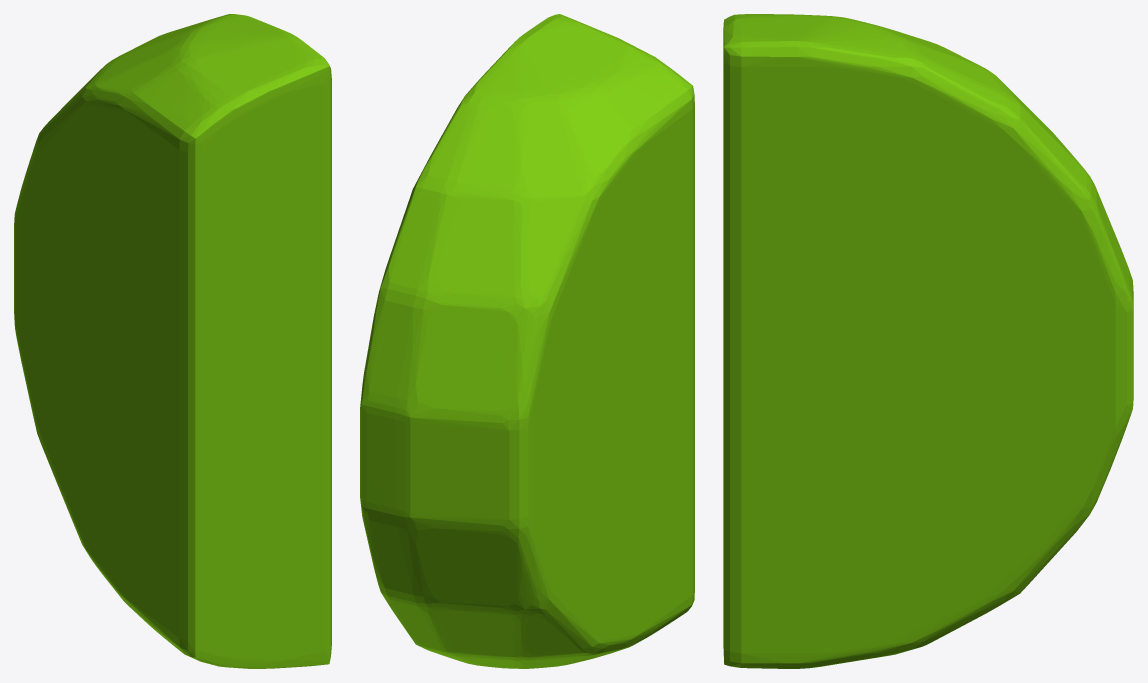
File: right_th_middle_part_4.obj
3 renders of one model, left to right at view 1: azimuth 30°, elevation 25°; view 2: azimuth 150°, elevation 25°; view 3: azimuth 270°, elevation 25°, orthographic. The views are drawn at different scales.
Size of the model in its own units: 5.81 by 22.38 by 13.31.
